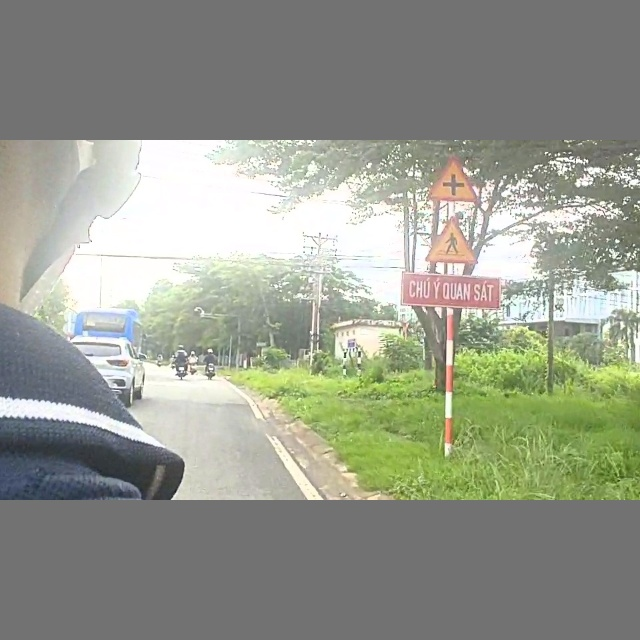W.205a: (427, 155, 491, 204)
W.224: (424, 214, 483, 265)
